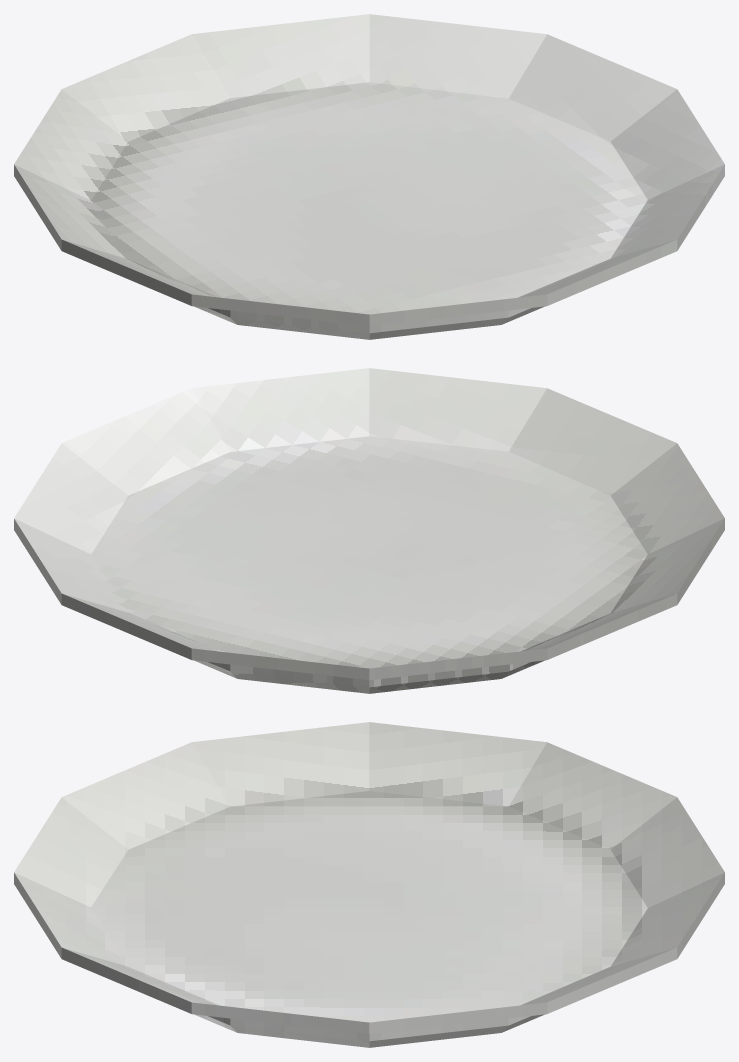
File: plate.glb
3 renders of one model, top to bottom at view 1: azimuth 30°, elevation 25°; view 2: azimuth 150°, elevation 25°; view 3: azimuth 270°, elevation 25°, orthographic.
Visible parts, largest first — view 1: Plate; view 2: Plate; view 3: Plate.
Boxes of the visible parts, <box> form: Plate: <box>14,14,724,339</box>; Plate: <box>14,368,724,693</box>; Plate: <box>14,722,724,1047</box>.
Bounding box in the file's own units: 0.6446 × 0.064 × 0.6446.
Materials: 1 (1 with a texture image).
